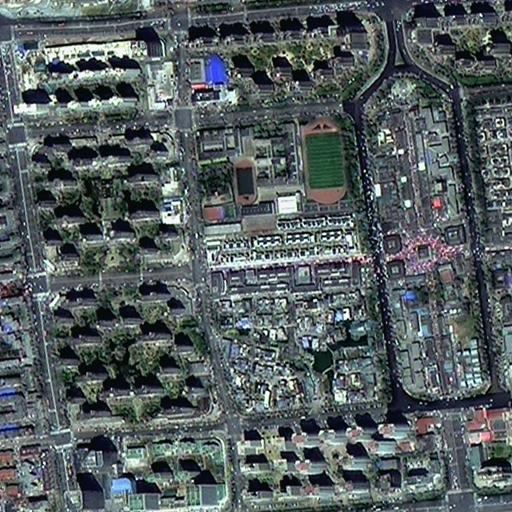school: (256, 112, 354, 218), (196, 128, 260, 236)
